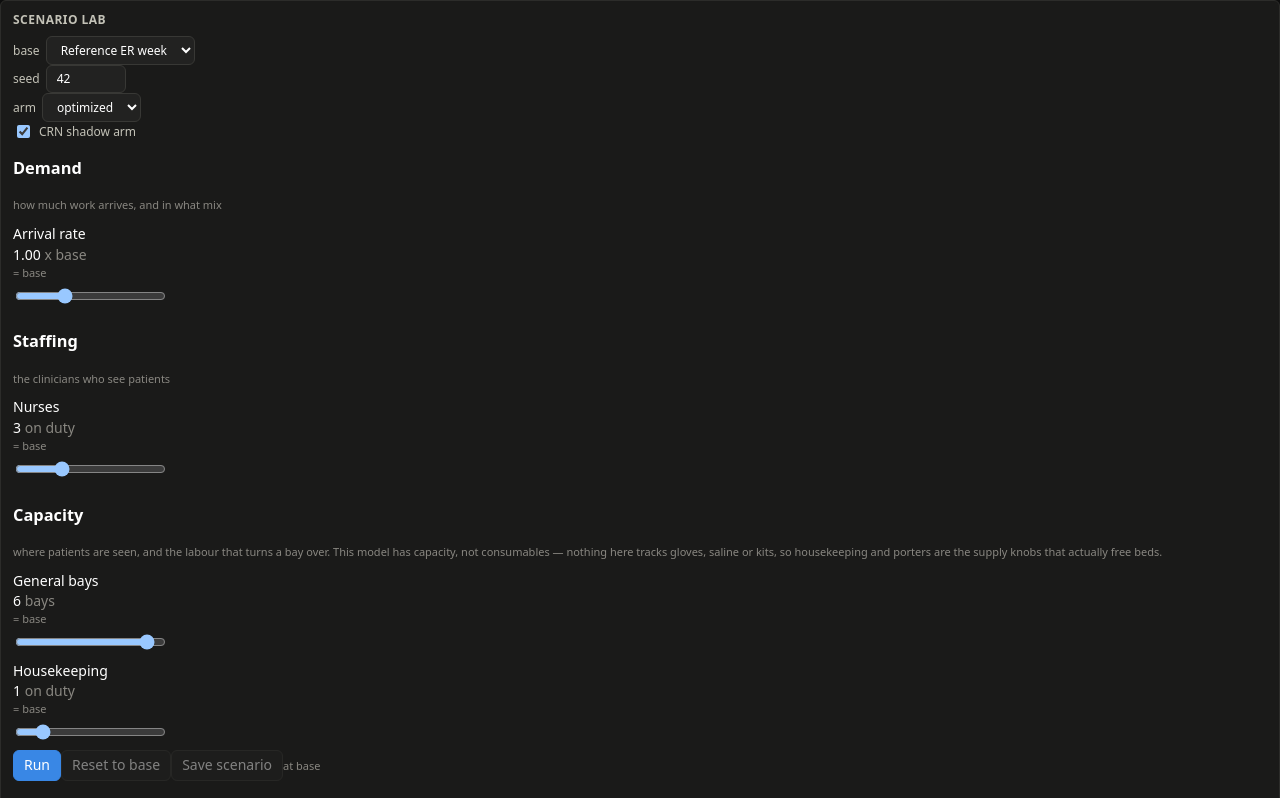
Test: ScenarioLab reset › Reset to base restores every slider and clears the dirty marks
The width and height of the screenshot is (1280, 798).
expect the button "Reset to base" is disabled: met, box x1=61 y1=750 x2=171 y2=781
Step 1. Set the slider named "staffing.nurse_count" to "6" → coordinates (90, 469), box x1=15 y1=456 x2=166 y2=482
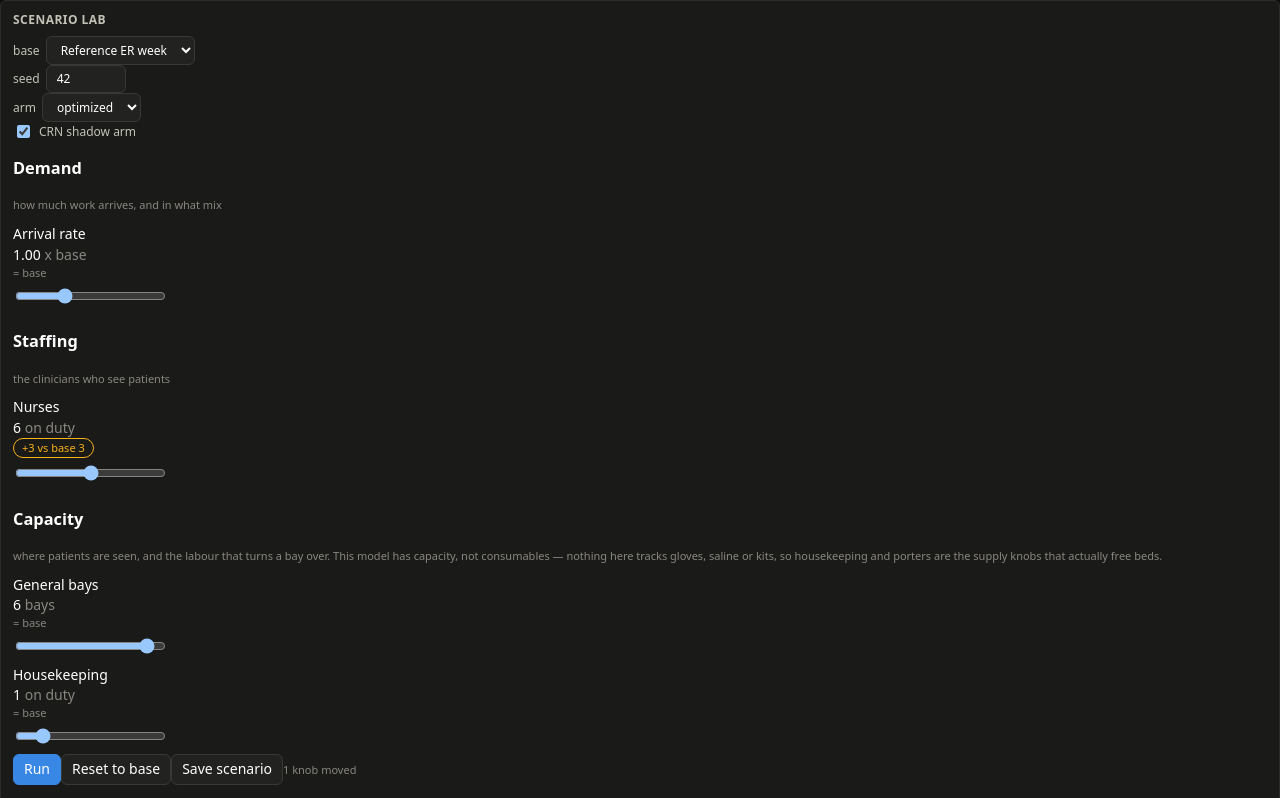
Step 2. Set the slider named "facility.general_bays" to "2" → coordinates (68, 646), box x1=15 y1=633 x2=166 y2=659
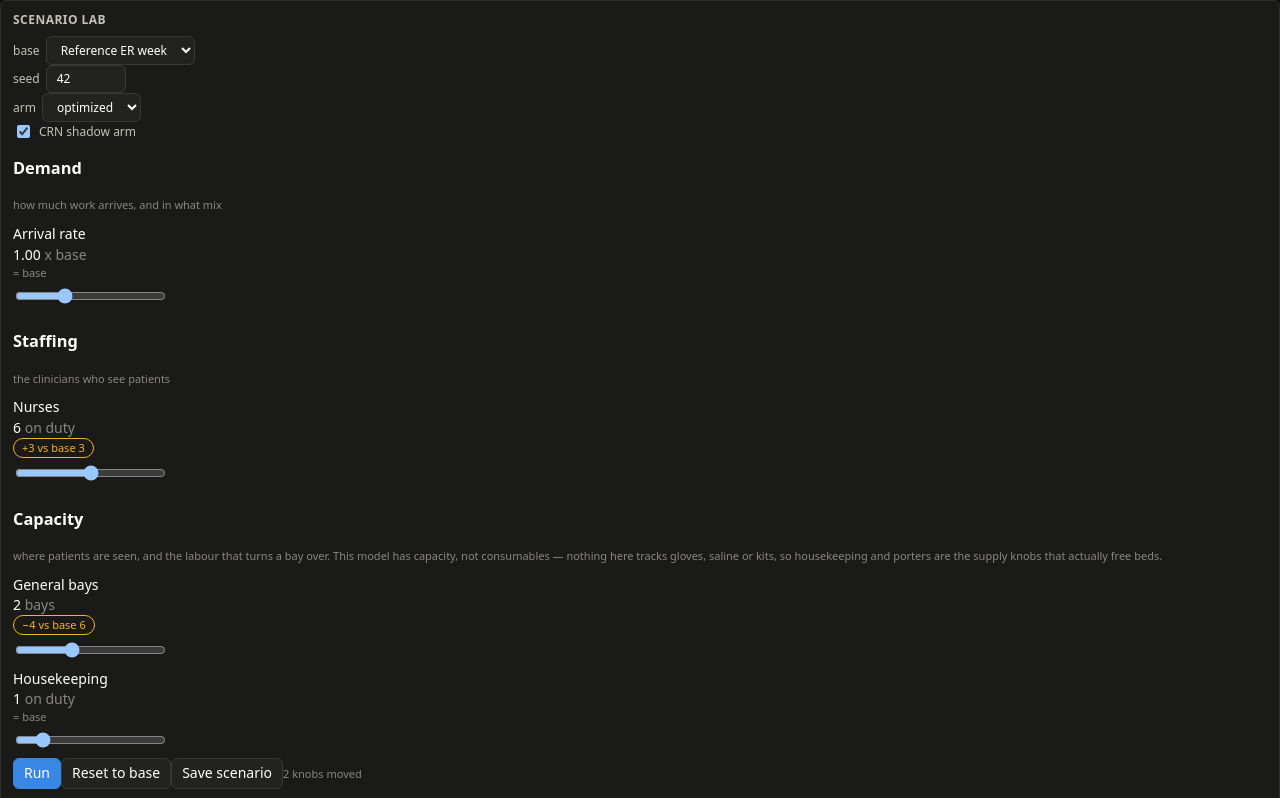
expect the button "Reset to base" is enabled: met
Step 3. Click the button "Reset to base" → coordinates (116, 774), box x1=61 y1=758 x2=171 y2=789
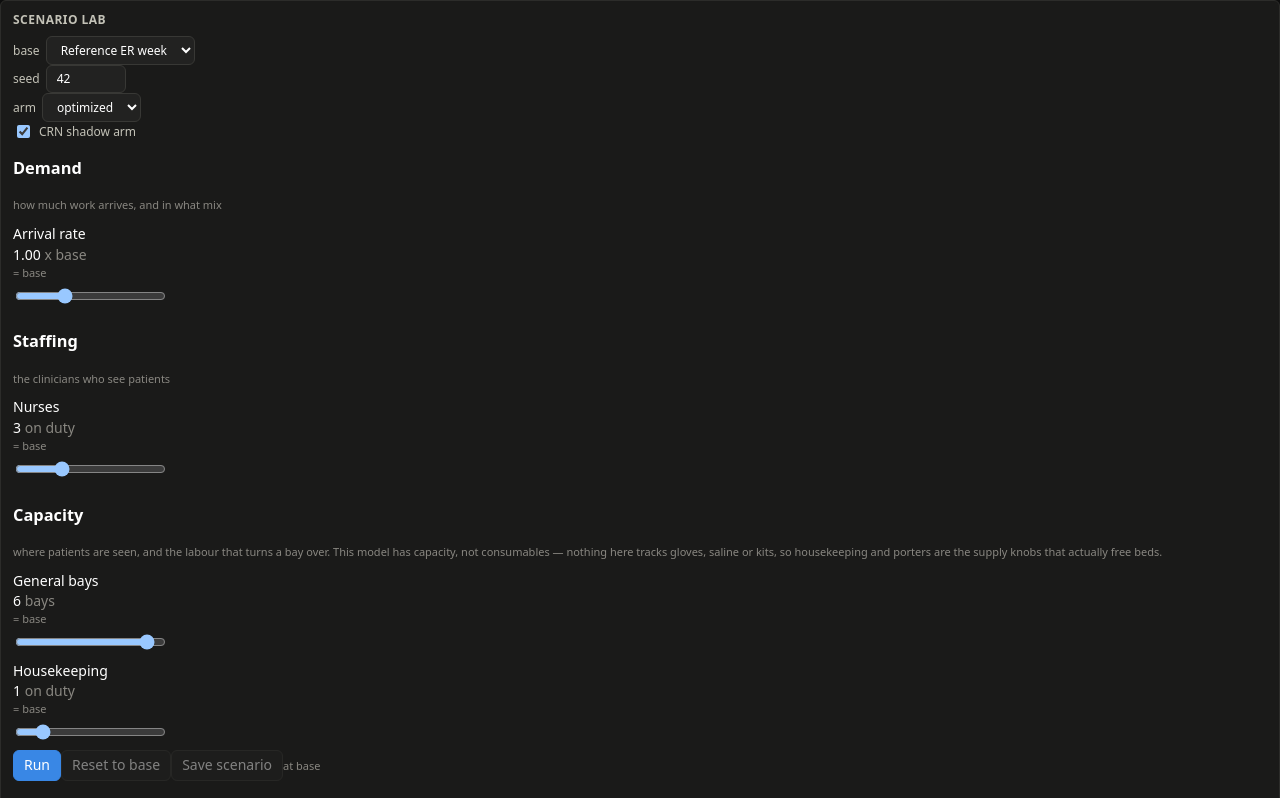
expect the slider named "staffing.nurse_count" holds "3": met, box x1=15 y1=456 x2=166 y2=482
expect the slider named "facility.general_bays" holds "6": met, box x1=15 y1=629 x2=166 y2=655
expect the text "= base" is shown 4 times: met, box x1=13 y1=265 x2=47 y2=280; x1=13 y1=438 x2=47 y2=453; x1=13 y1=611 x2=47 y2=626; x1=13 y1=701 x2=47 y2=716
